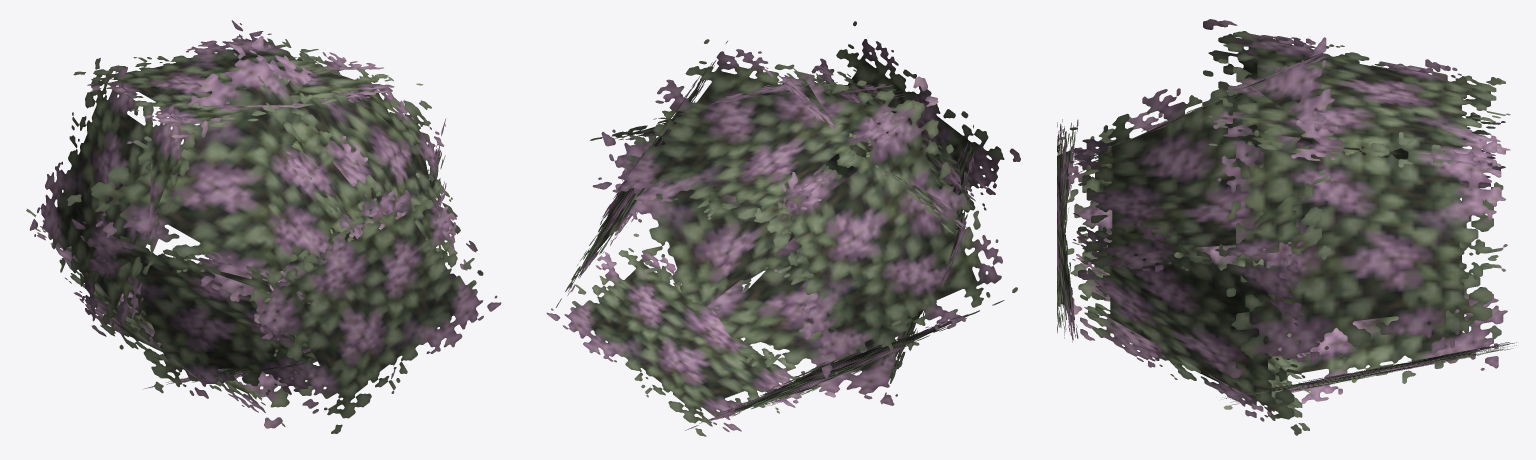
The model's file is bush-big-2-lilac.obj.
3 renders of one model, left to right at view 1: azimuth 30°, elevation 25°; view 2: azimuth 150°, elevation 25°; view 3: azimuth 270°, elevation 25°, orthographic. The views are drawn at different scales.
Size of the model in its own units: 1.27 by 1.12 by 1.23.
Materials: 1 (1 with a texture image).
